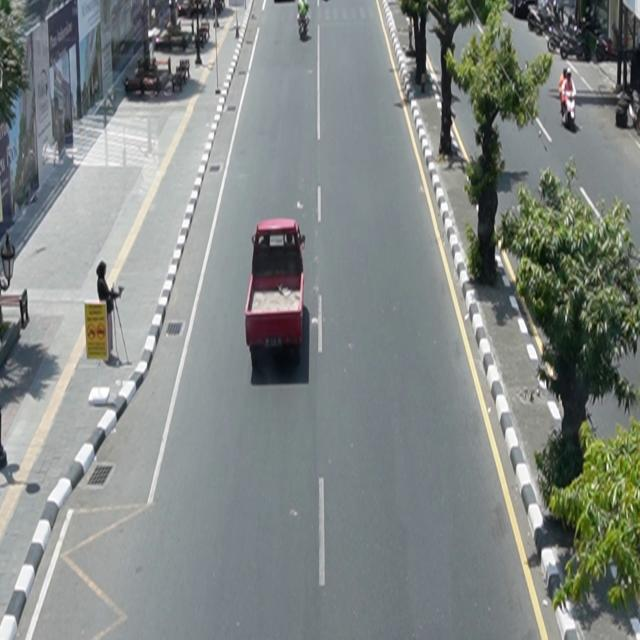car: (245, 218, 307, 358)
